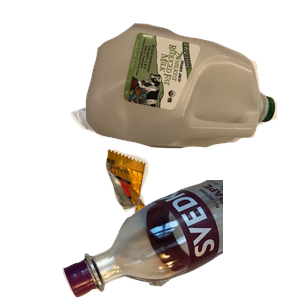glass: (60, 180, 300, 300)
paper: (68, 66, 215, 197)
plastic: (83, 21, 300, 162)
trash: (103, 147, 300, 300)
